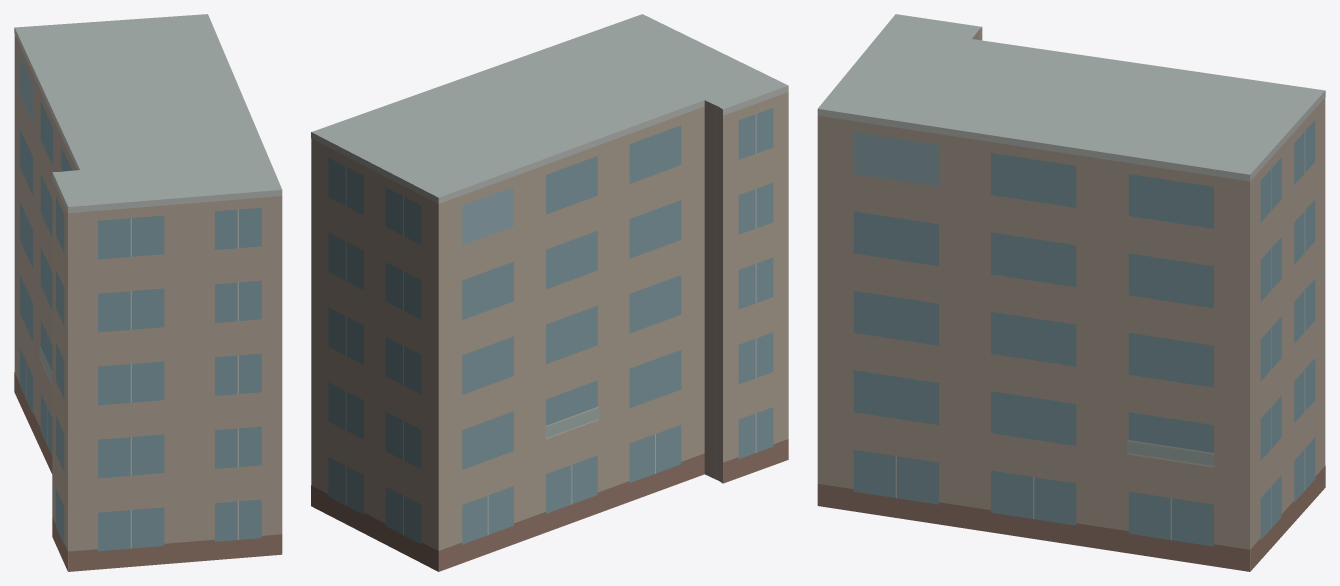
Rendered from survey-upis-32888447.glb.
The picture shows the model from 3 angles, left to right: view 1: azimuth 30°, elevation 25°; view 2: azimuth 150°, elevation 25°; view 3: azimuth 270°, elevation 25°; orthographic projection. The views are drawn at different scales.
Parts seen in each view (by area): view 1: survey-upis-32888447.tmp; view 2: survey-upis-32888447.tmp; view 3: survey-upis-32888447.tmp.
Part boxes in pixels (left/top/right/bottom): survey-upis-32888447.tmp: left=14, top=14, right=282, bottom=571; survey-upis-32888447.tmp: left=311, top=14, right=788, bottom=571; survey-upis-32888447.tmp: left=817, top=14, right=1325, bottom=571.
Bounding box in the file's own units: 12.56 × 14.45 × 16.76.
